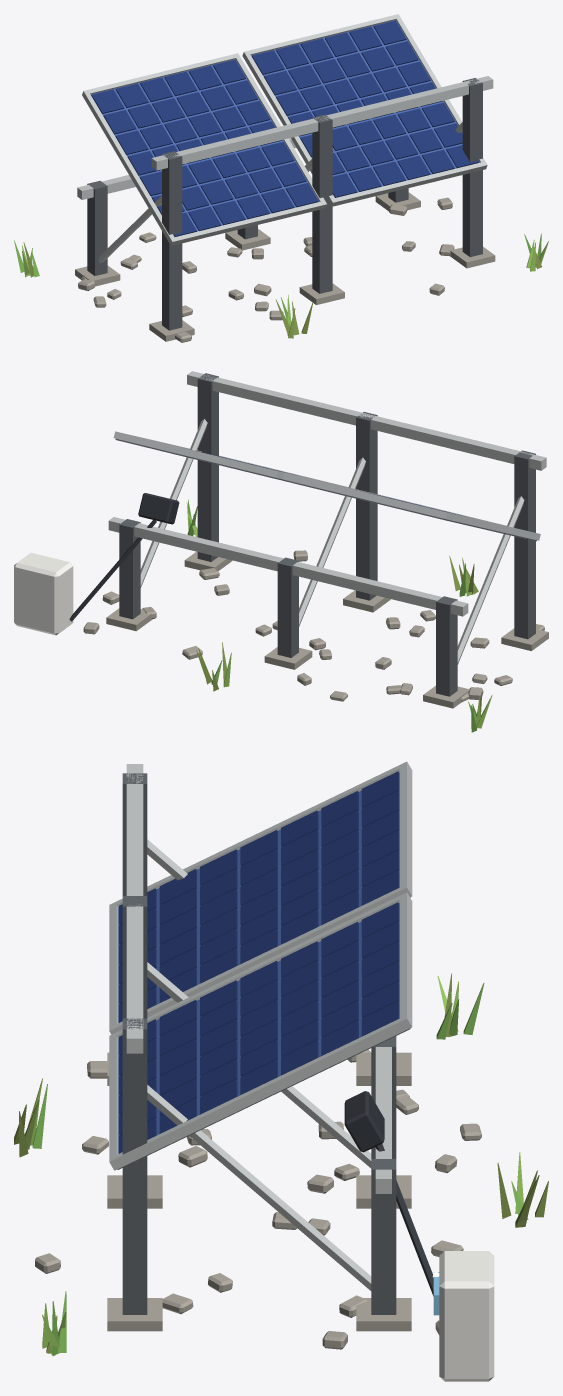
Rendered from ground_solar_array.glb.
3 renders of one model, top to bottom at view 1: azimuth 30°, elevation 25°; view 2: azimuth 150°, elevation 25°; view 3: azimuth 270°, elevation 25°, orthographic. The views are drawn at different scales.
Parts seen in each view (by area): view 1: Ground Solar Array; view 2: Ground Solar Array; view 3: Ground Solar Array.
Part boxes in pixels (bbox=[...]): Ground Solar Array: bbox=[14, 14, 548, 342]; Ground Solar Array: bbox=[14, 371, 548, 732]; Ground Solar Array: bbox=[14, 761, 548, 1381].
Bounding box in the file's own units: 3.07 × 1.23 × 1.93.
2 materials, 1 textured.
